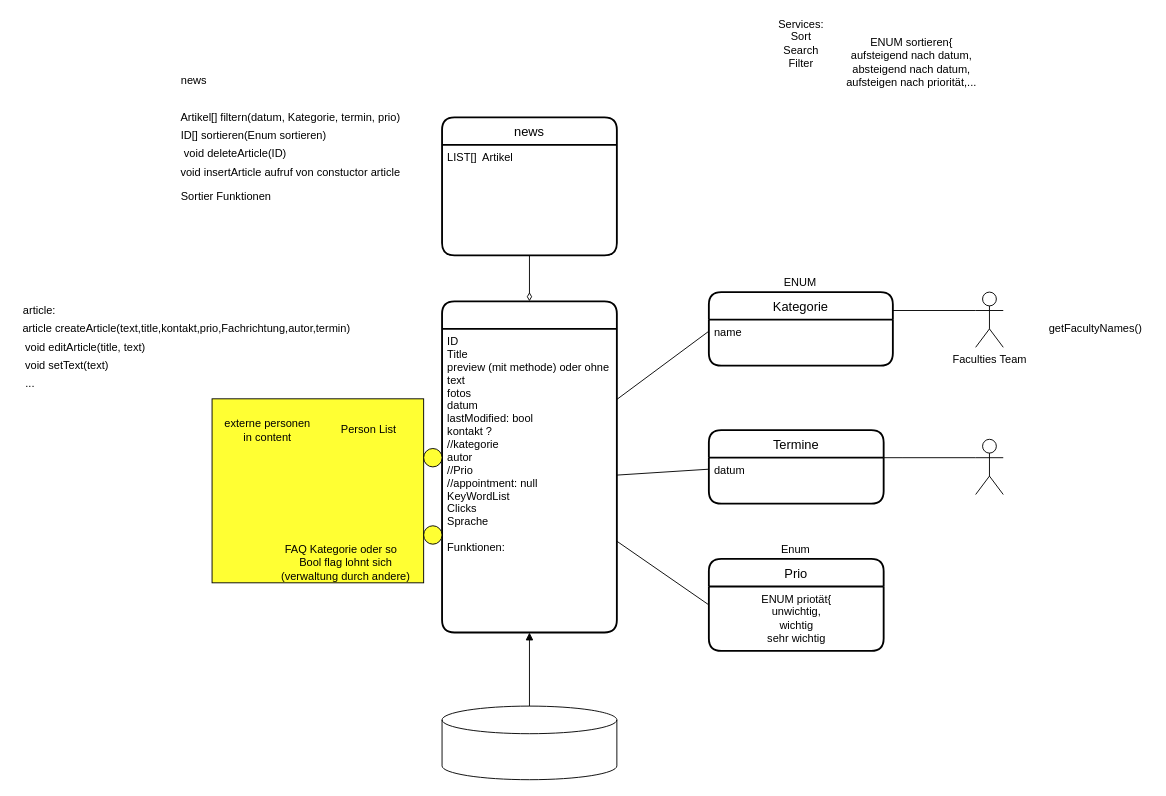
Image size: 1166x796. Some labels were removed from this diagram. Here are the shapes that lost their labels. From the top down, the box of each, then its label:
(441, 300, 617, 633): article
(975, 438, 1003, 494): Appointments Team
